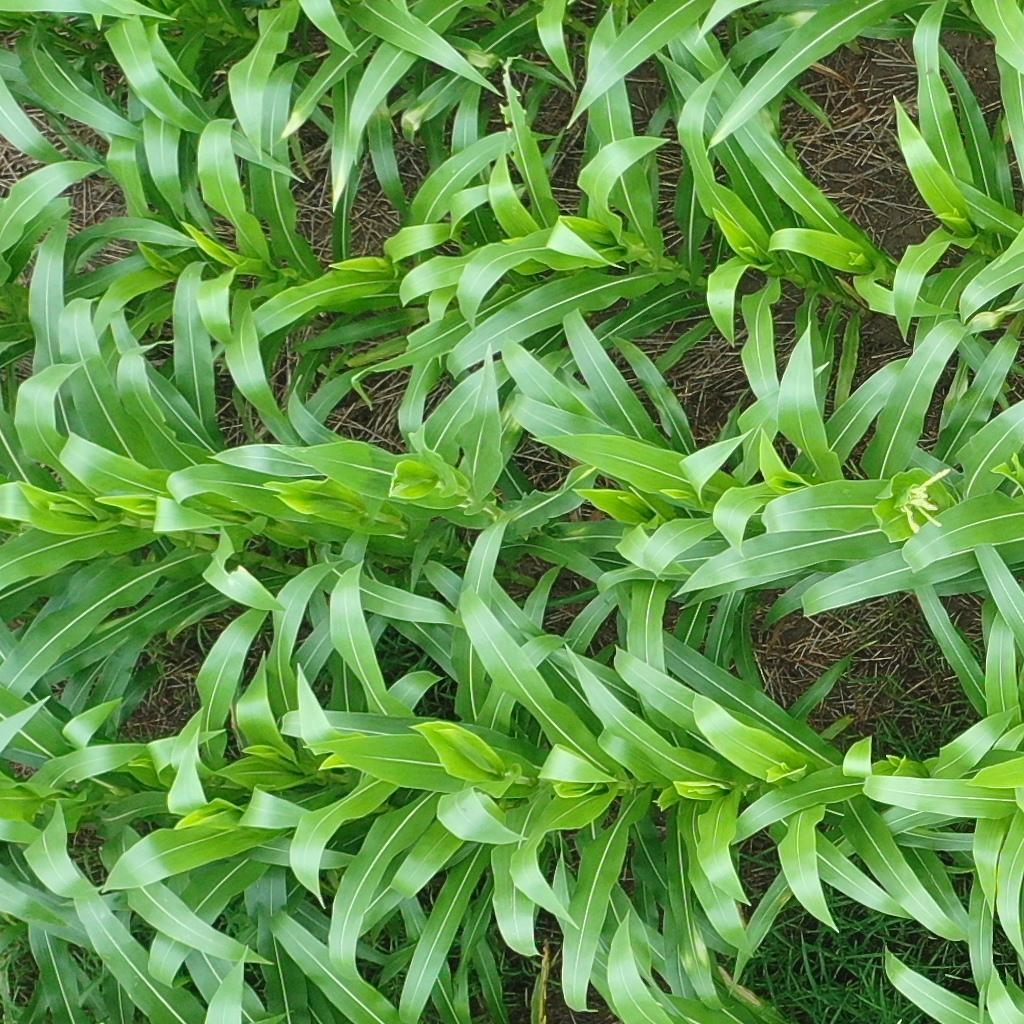Tassel: (883, 457, 954, 541)
